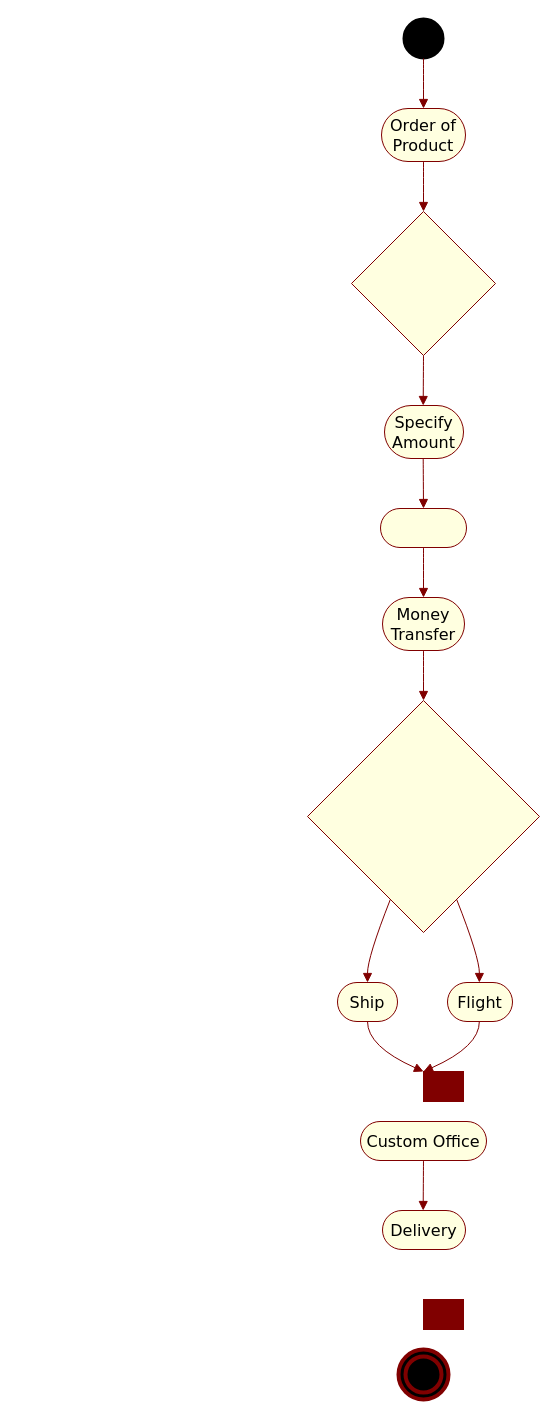
This 557x1418 diagram has some shape labels left out. Here are the shapes that lost their labels. From the top down, the box of each, then its label:
(350, 210, 496, 356): If available
(380, 508, 466, 548): Quantity
(306, 700, 540, 932): Modes of Transport
